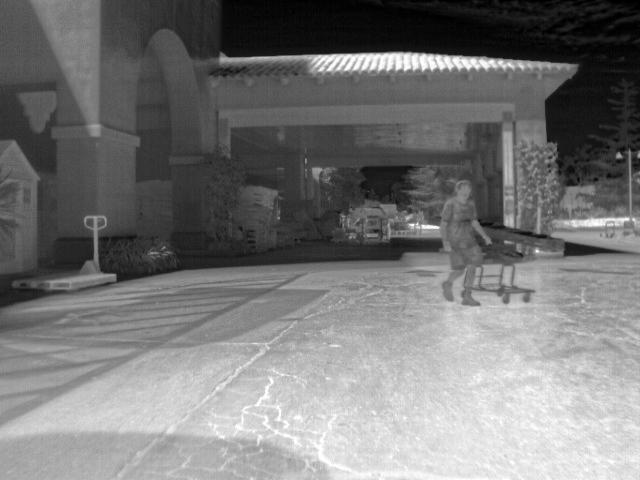person: (439, 177, 484, 308)
